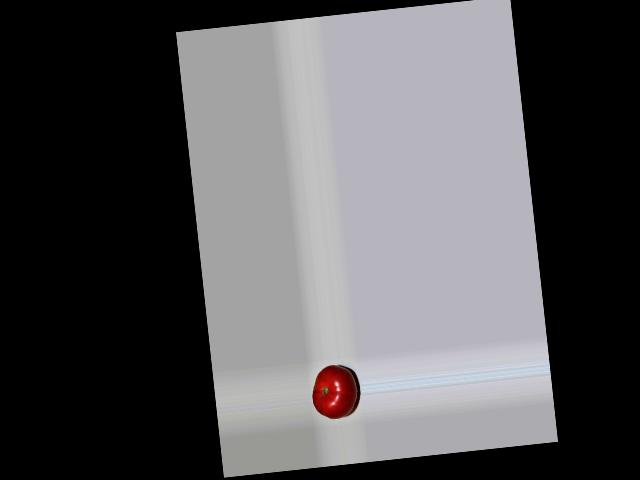tomato: (309, 362, 359, 421)
